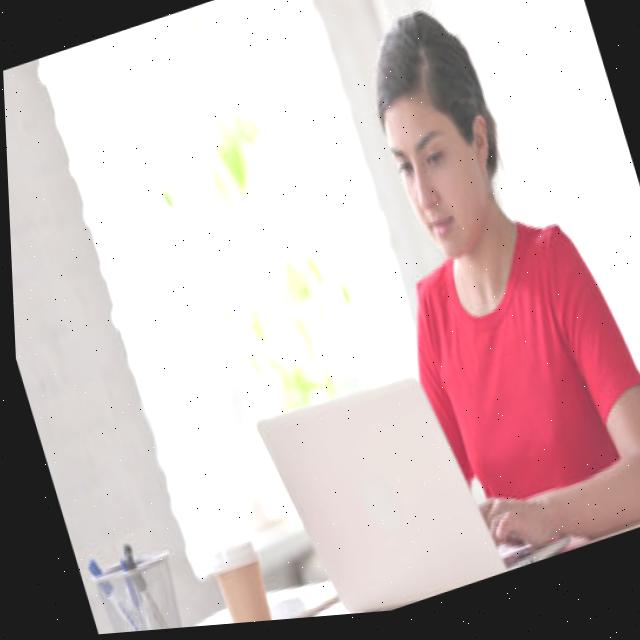notebook-person: (139, 0, 640, 631)
